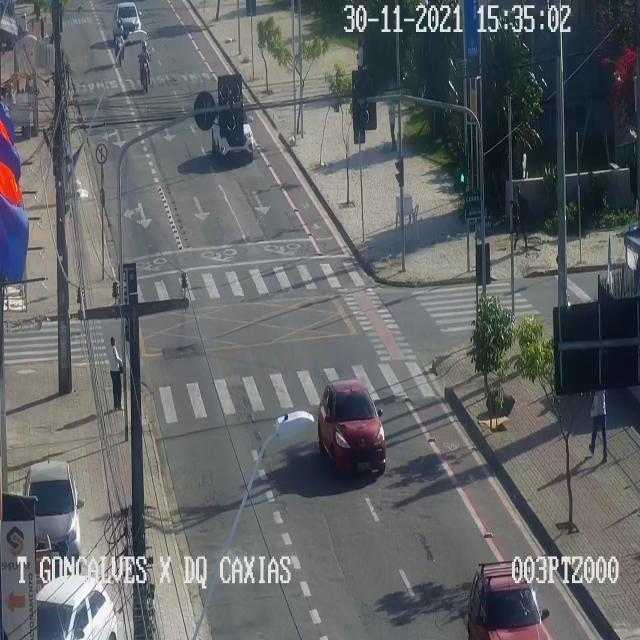Car: (318, 379, 387, 477), (24, 458, 84, 564), (468, 561, 548, 639), (36, 573, 116, 639), (200, 94, 265, 158), (113, 3, 141, 42), (356, 41, 366, 67)
Motorcycle: (138, 42, 151, 92), (114, 19, 126, 65)
